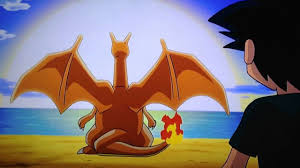charizard: (12, 29, 231, 160)
